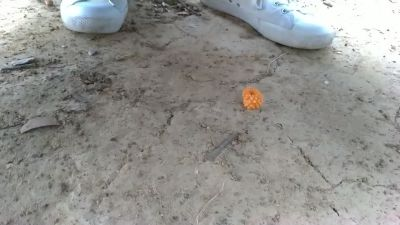eggs: (240, 82, 266, 111)
